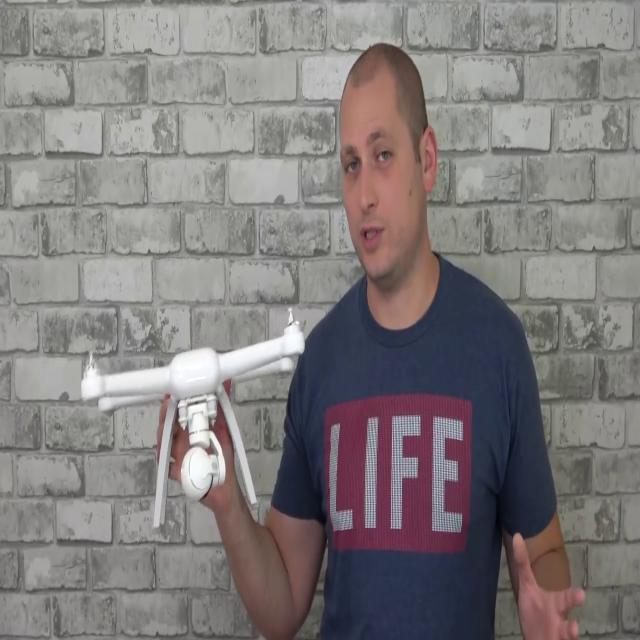drone: (76, 316, 308, 534)
